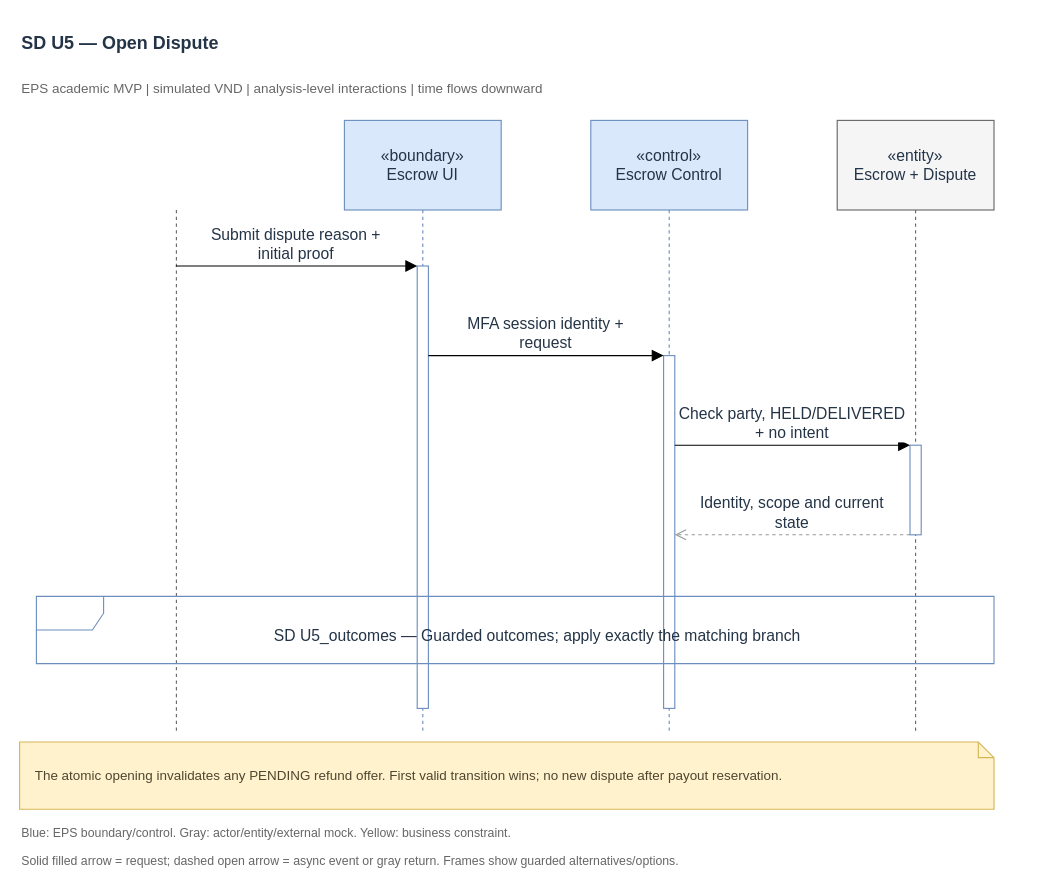
Image size: 1047x896. Some labels were removed from this diagram. The box of each missing label's shape, as (x1, y1, x2, y2) in pixels:
Buyer / Seller: (97, 119, 255, 731)
ref: (35, 595, 994, 664)
